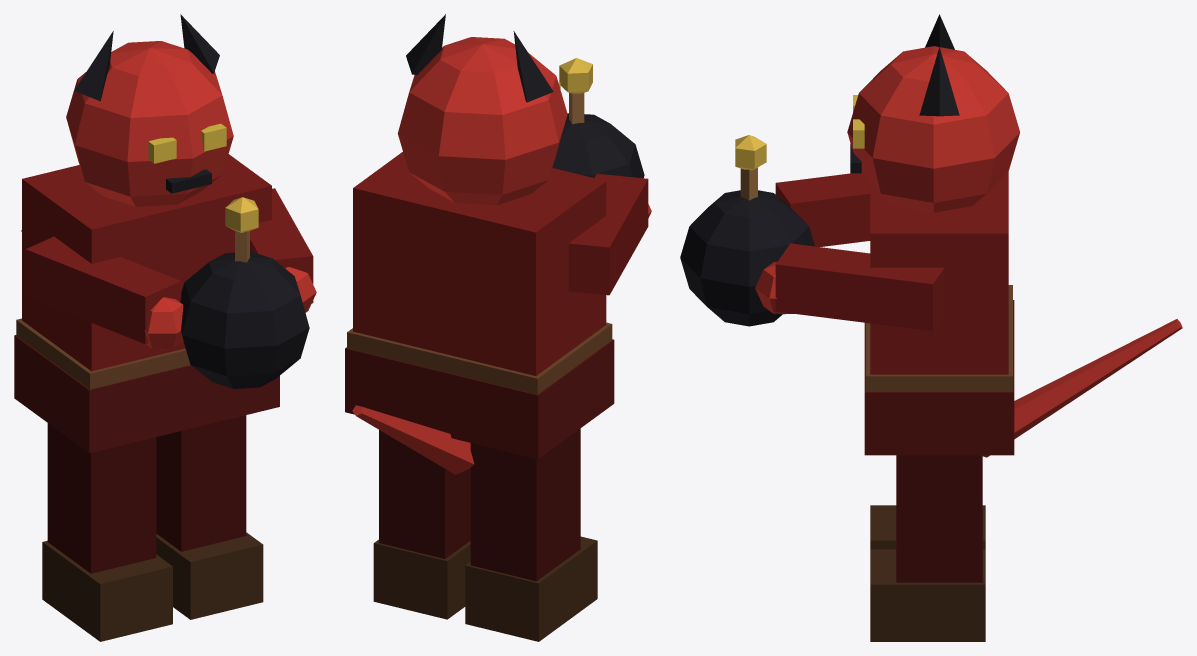
File: e_imp.fbx
The picture shows the model from 3 angles, left to right: view 1: azimuth 30°, elevation 25°; view 2: azimuth 150°, elevation 25°; view 3: azimuth 270°, elevation 25°; orthographic projection.
Visible parts, largest first — view 1: e_imp_Body, e_imp_LegR, e_imp_LegL; view 2: e_imp_Body, e_imp_LegR, e_imp_LegL; view 3: e_imp_Body, e_imp_LegL, e_imp_LegR.
Part boxes in pixels (x1,y1,x2,y2): e_imp_Body: (14,14,316,453); e_imp_LegR: (42,423,172,641); e_imp_LegL: (156,415,263,619); e_imp_Body: (345,14,651,474); e_imp_LegR: (465,428,597,641); e_imp_LegL: (373,430,470,619); e_imp_Body: (680,14,1182,457); e_imp_LegL: (870,455,985,641); e_imp_LegR: (870,505,985,549).
Bounding box in the file's own units: 0.4977 × 1.1 × 0.8721.
